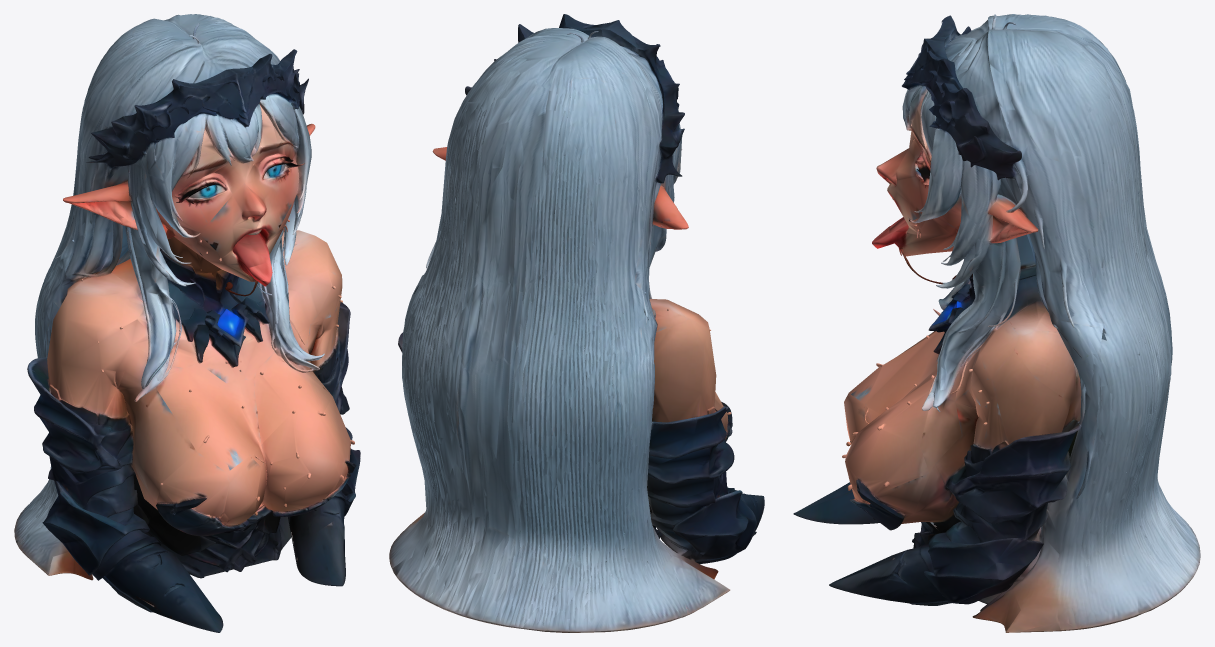
The model's file is 01a1a2e3-c857-7fbe-8422-6df1de6ecee6.glb.
The picture shows the model from 3 angles, left to right: view 1: azimuth 30°, elevation 25°; view 2: azimuth 150°, elevation 25°; view 3: azimuth 270°, elevation 25°; orthographic projection. The views are drawn at different scales.
Visible parts, largest first — view 1: model; view 2: model; view 3: model.
Part boxes in pixels (box(x1,y1,x2,y2)): model: box(14, 14, 360, 632); model: box(389, 14, 764, 632); model: box(793, 14, 1200, 632).
Size of the model in its own units: 1.23 by 1.9 by 1.31.
1 material, 1 textured.
